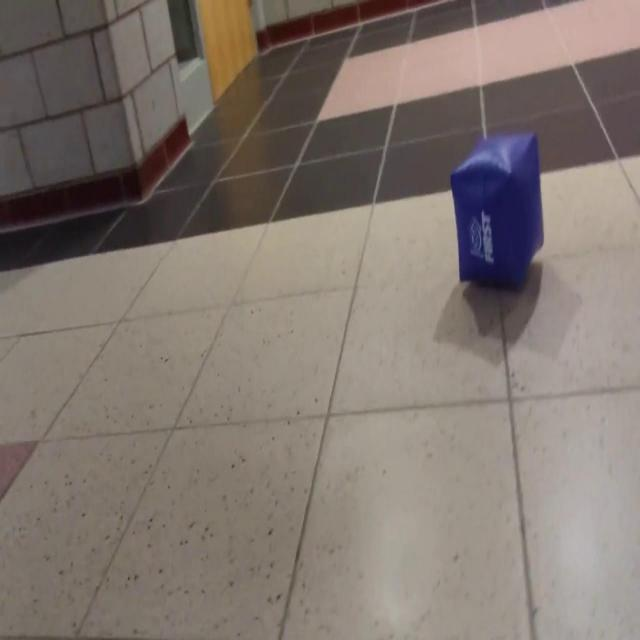frc_cube: (451, 131, 543, 293)
